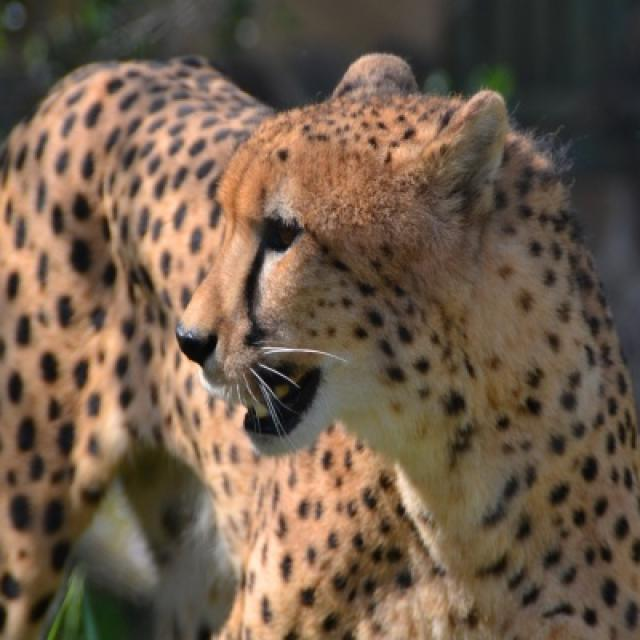Cheetah: (1, 52, 638, 638)
